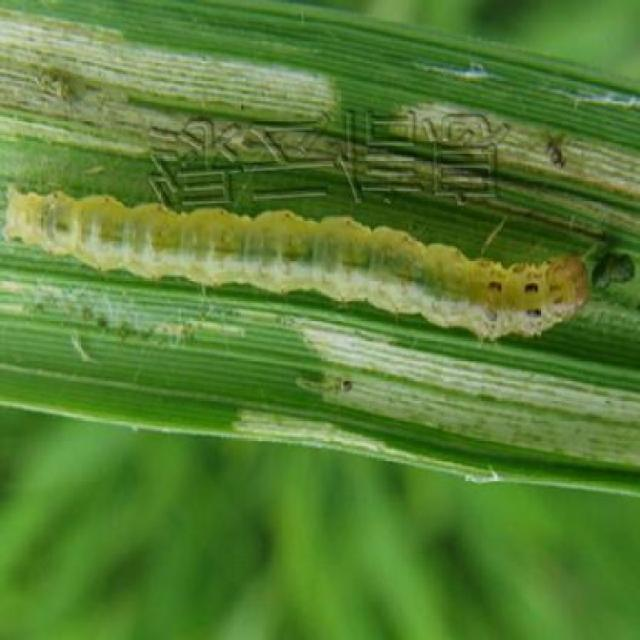leaf-folder: (6, 152, 640, 337), (284, 352, 376, 410)
